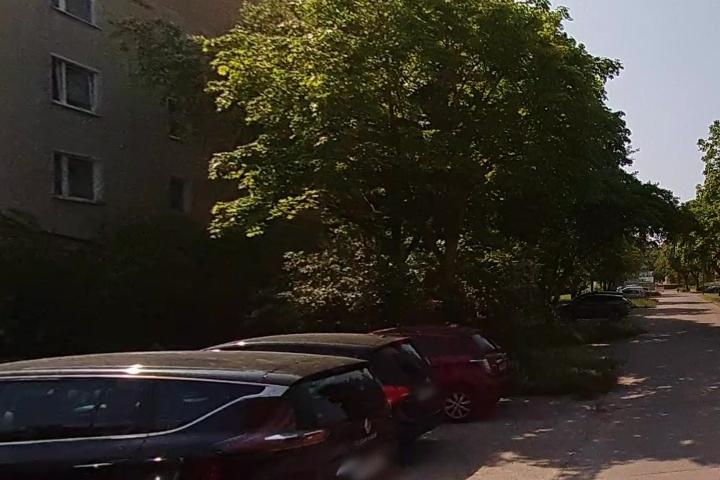vehicle: (1, 344, 406, 480), (548, 289, 634, 323)
